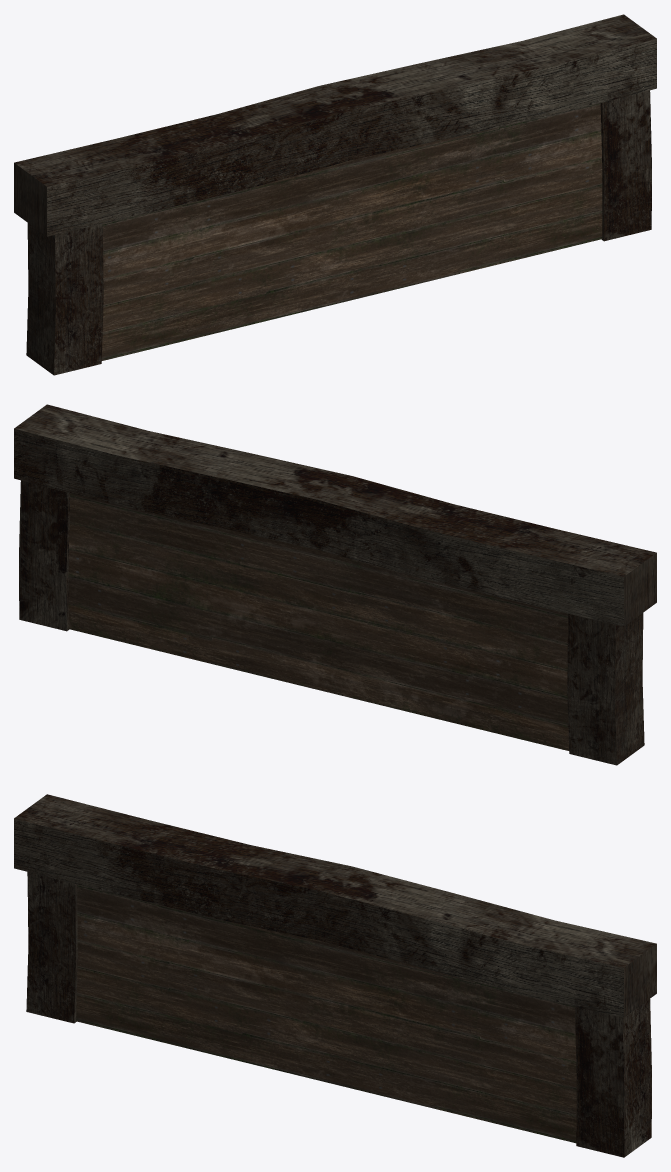
The model's file is ShortWoodWall1.fbx.
3 views of the same model, one above another, from view 1: azimuth 30°, elevation 25°; view 2: azimuth 150°, elevation 25°; view 3: azimuth 330°, elevation 25° (orthographic).
Parts seen in each view (by area): view 1: Wood Wall Short 4m; view 2: Wood Wall Short 4m; view 3: Wood Wall Short 4m.
Part boxes in pixels (x1,y1,x2,y2): Wood Wall Short 4m: [14, 14, 656, 375]; Wood Wall Short 4m: [14, 404, 656, 765]; Wood Wall Short 4m: [14, 794, 656, 1157].
Size of the model in its own units: 432 by 132 by 40.57.
